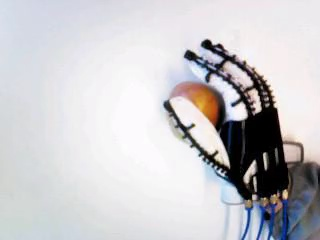apple: (165, 80, 223, 134)
hand: (162, 39, 287, 209)
